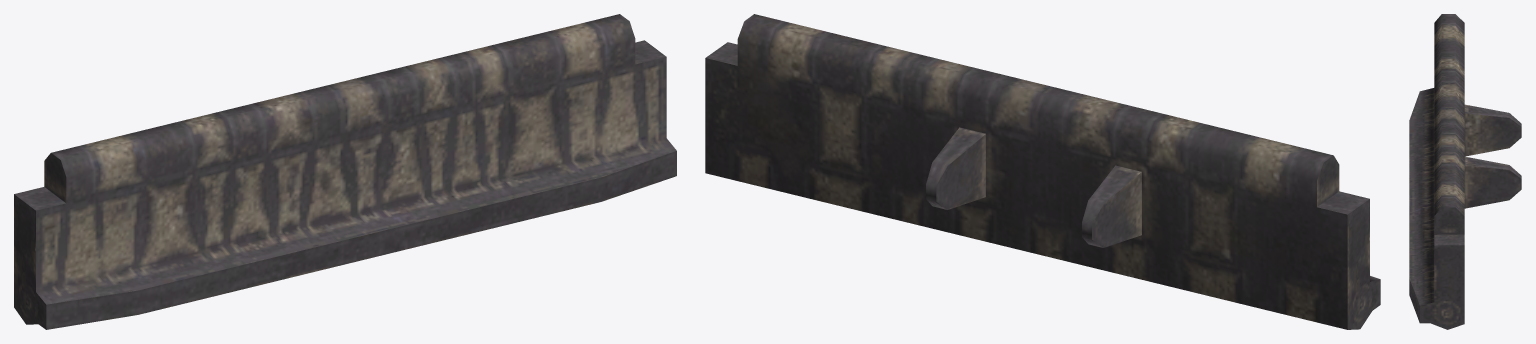
The model's file is right.glb.
3 renders of one model, left to right at view 1: azimuth 30°, elevation 25°; view 2: azimuth 150°, elevation 25°; view 3: azimuth 270°, elevation 25°, orthographic. The views are drawn at different scales.
Parts seen in each view (by area): view 1: set_0_group_0; view 2: set_0_group_0; view 3: set_0_group_0.
Part boxes in pixels (x1,y1,x2,y2): set_0_group_0: [14, 14, 676, 329]; set_0_group_0: [705, 14, 1380, 329]; set_0_group_0: [1409, 14, 1521, 329].
Bounding box in the file's own units: 0.9003 × 0.2189 × 0.1994.
1 material, 1 textured.
